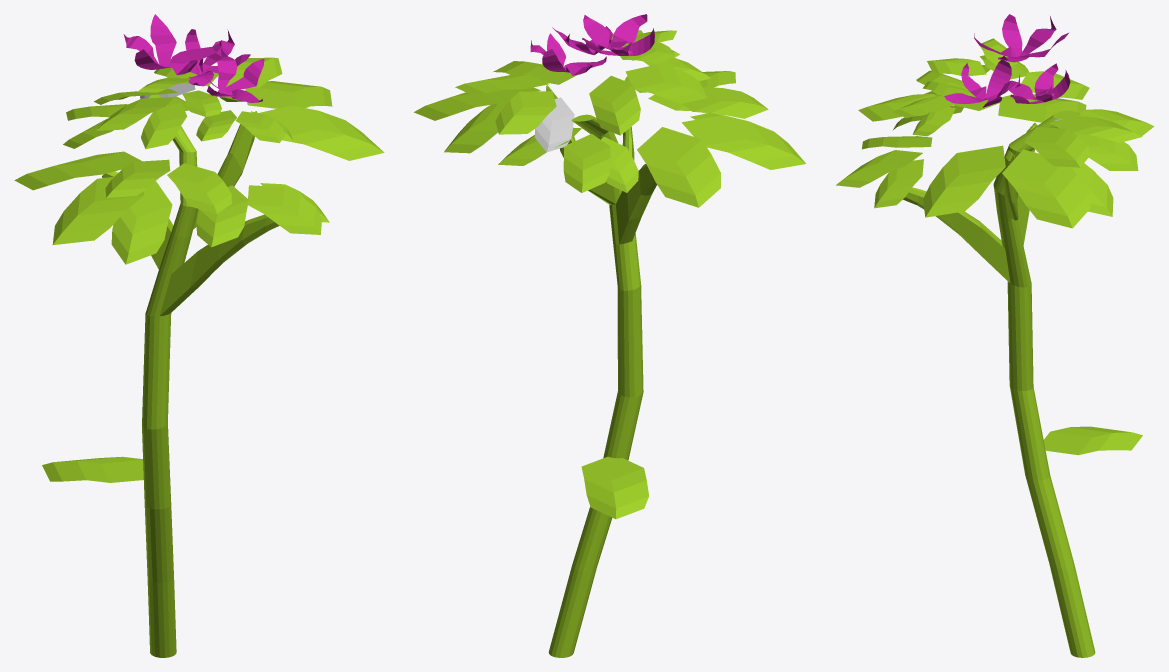
File: potato_Final.obj
The picture shows the model from 3 angles, left to right: view 1: azimuth 30°, elevation 25°; view 2: azimuth 150°, elevation 25°; view 3: azimuth 270°, elevation 25°; orthographic projection. The views are drawn at different scales.
Visible parts, largest first — view 1: Cylinder.002_Cylinder.003, Plane.002_Plane.017, Plane.007_Plane.013, Plane.003_Plane.018, Sphere, leaf1_Plane.007, Sphere.002, Sphere.001; view 2: Cylinder.002_Cylinder.003, Plane.007_Plane.013, Plane.002_Plane.017, Plane.003_Plane.018, leaf1_Plane.007, Sphere, Plane.010_Plane.016, Sphere.001; view 3: Cylinder.002_Cylinder.003, Plane.007_Plane.013, Plane.002_Plane.017, Plane.003_Plane.018, leaf1_Plane.007, Sphere.002, Sphere, Sphere.001.
Part boxes in pixels (x1,y1,x2,y2): Cylinder.002_Cylinder.003: [102, 94, 279, 657]; Plane.002_Plane.017: [14, 151, 329, 264]; Plane.007_Plane.013: [63, 57, 384, 160]; Plane.003_Plane.018: [94, 77, 293, 149]; Sphere: [123, 14, 221, 74]; leaf1_Plane.007: [42, 456, 143, 482]; Sphere.002: [199, 48, 264, 102]; Sphere.001: [185, 29, 250, 86]; Cylinder.002_Cylinder.003: [546, 85, 656, 657]; Plane.007_Plane.013: [414, 61, 638, 192]; Plane.002_Plane.017: [624, 71, 805, 207]; Plane.003_Plane.018: [589, 30, 710, 135]; leaf1_Plane.007: [581, 456, 648, 519]; Sphere: [582, 14, 654, 55]; Plane.010_Plane.016: [535, 97, 574, 152]; Sphere.001: [530, 33, 606, 75]; Cylinder.002_Cylinder.003: [903, 110, 1095, 657]; Plane.007_Plane.013: [923, 109, 1154, 228]; Plane.002_Plane.017: [836, 70, 1086, 208]; Plane.003_Plane.018: [893, 38, 1089, 136]; leaf1_Plane.007: [1043, 426, 1142, 455]; Sphere.002: [944, 60, 1020, 107]; Sphere: [974, 14, 1068, 62]; Sphere.001: [1009, 63, 1070, 103].
Size of the model in its own units: 0.5989 by 1.07 by 0.5054.
